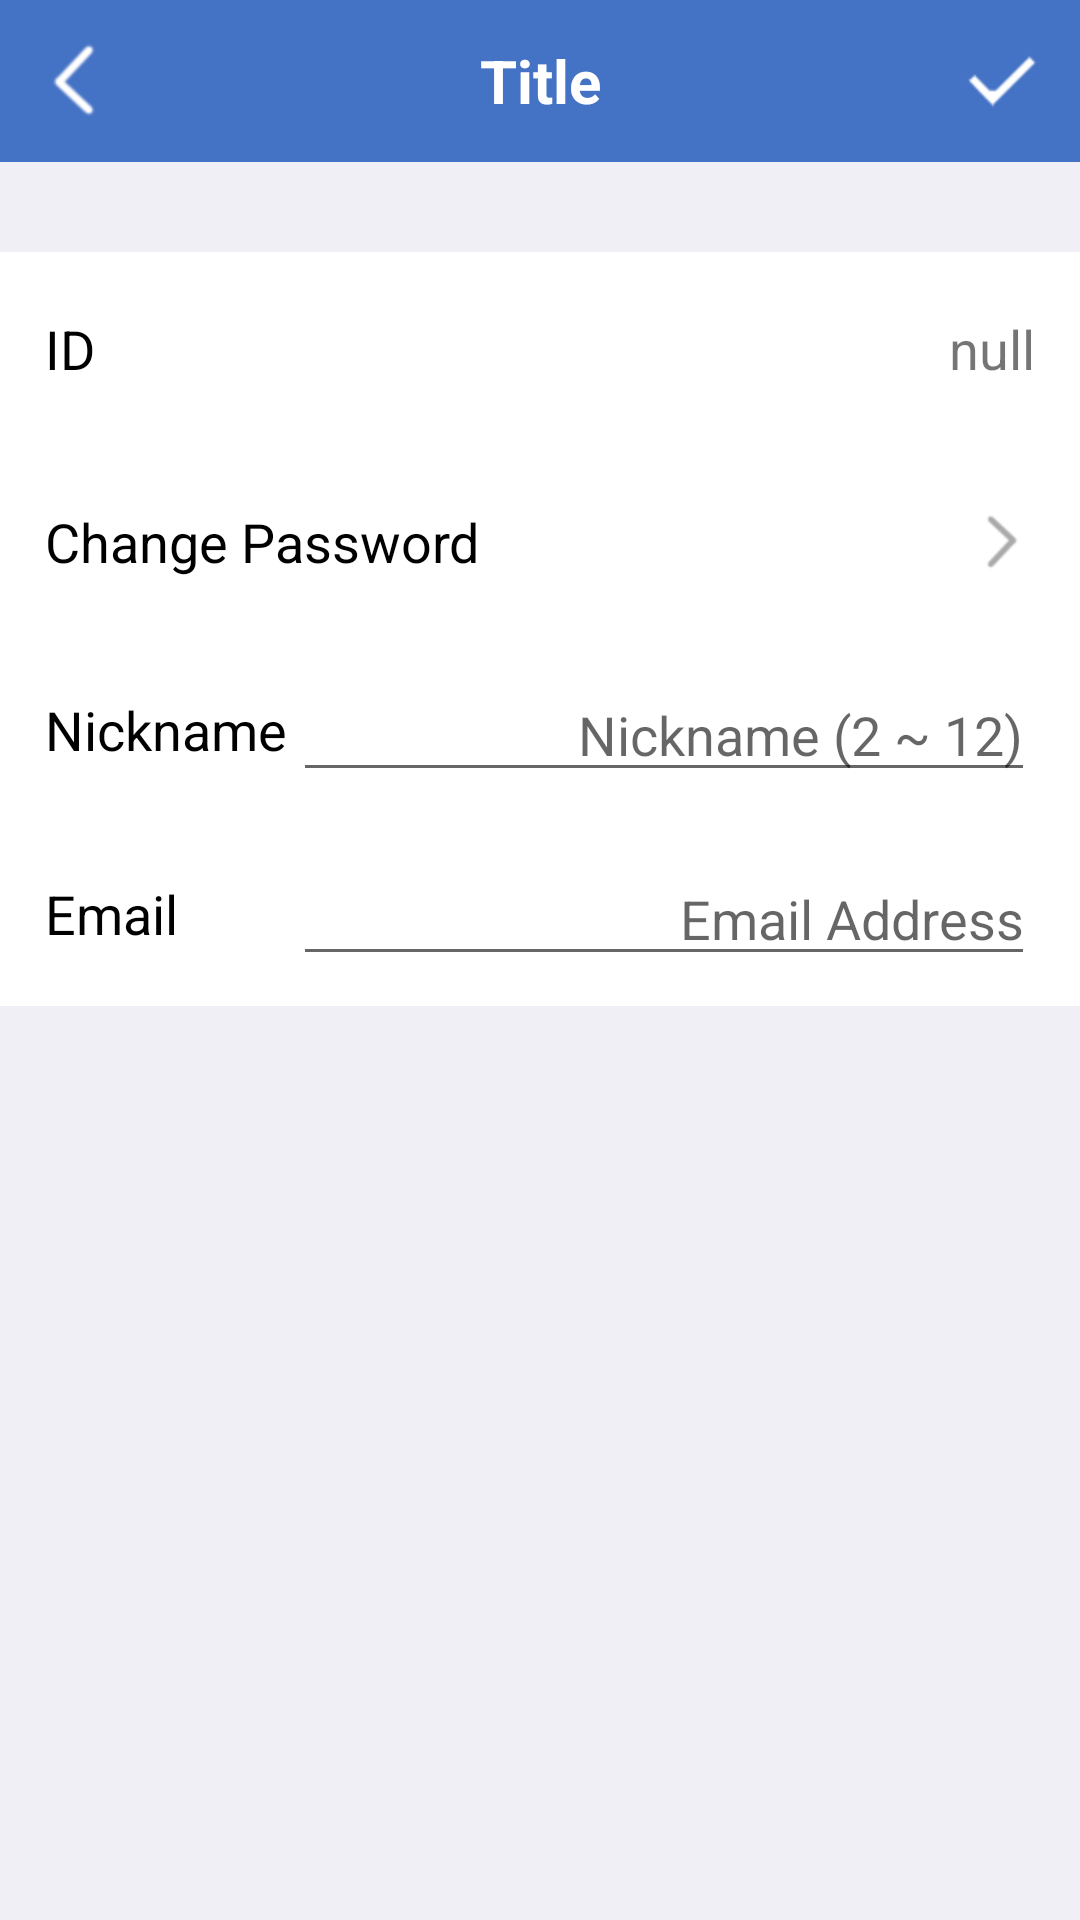

Where icons sit on this 1080 × 1920 app screen, as (x1, y1, x2, y2):
checkmark: (969, 56, 1035, 107)
